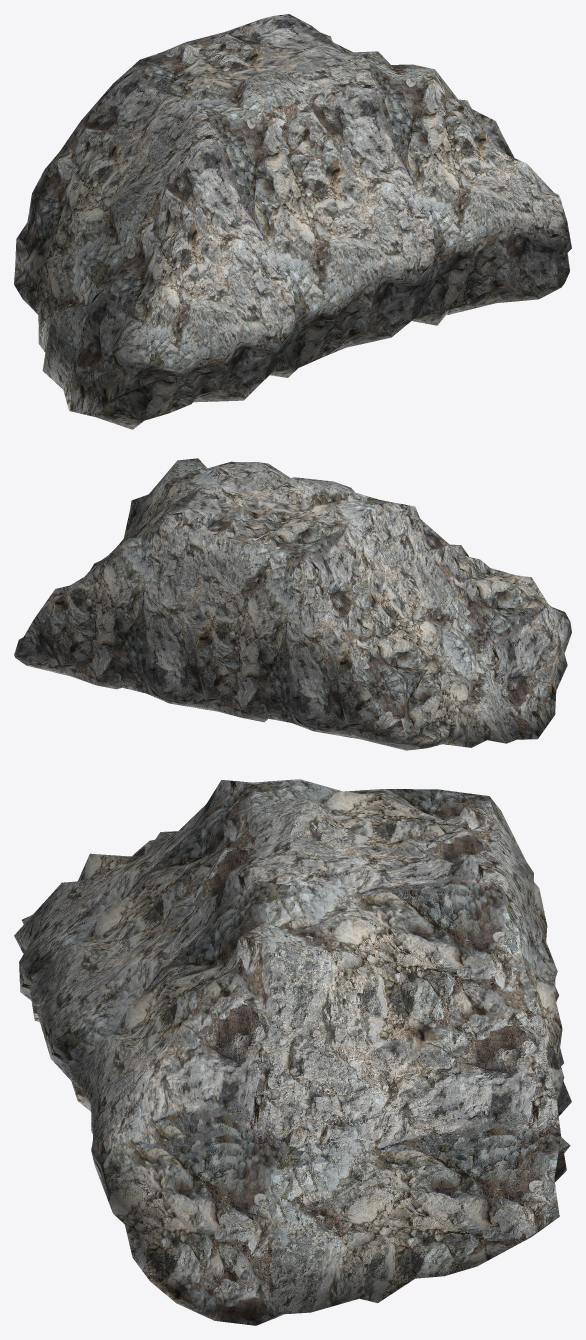
Rendered from cliff_rock_a_big.fbx.
3 views of the same model, one above another, from view 1: azimuth 30°, elevation 25°; view 2: azimuth 150°, elevation 25°; view 3: azimuth 270°, elevation 25° (orthographic). The views are drawn at different scales.
Visible parts, largest first — view 1: cliff_rock_a_big_mesh; view 2: cliff_rock_a_big_mesh; view 3: cliff_rock_a_big_mesh.
Part boxes in pixels (bbox=[...]): cliff_rock_a_big_mesh: bbox=[14, 14, 571, 429]; cliff_rock_a_big_mesh: bbox=[14, 458, 571, 750]; cliff_rock_a_big_mesh: bbox=[14, 779, 571, 1325].
Size of the model in its own units: 30.54 by 15.42 by 21.6.
1 material, 1 textured.
